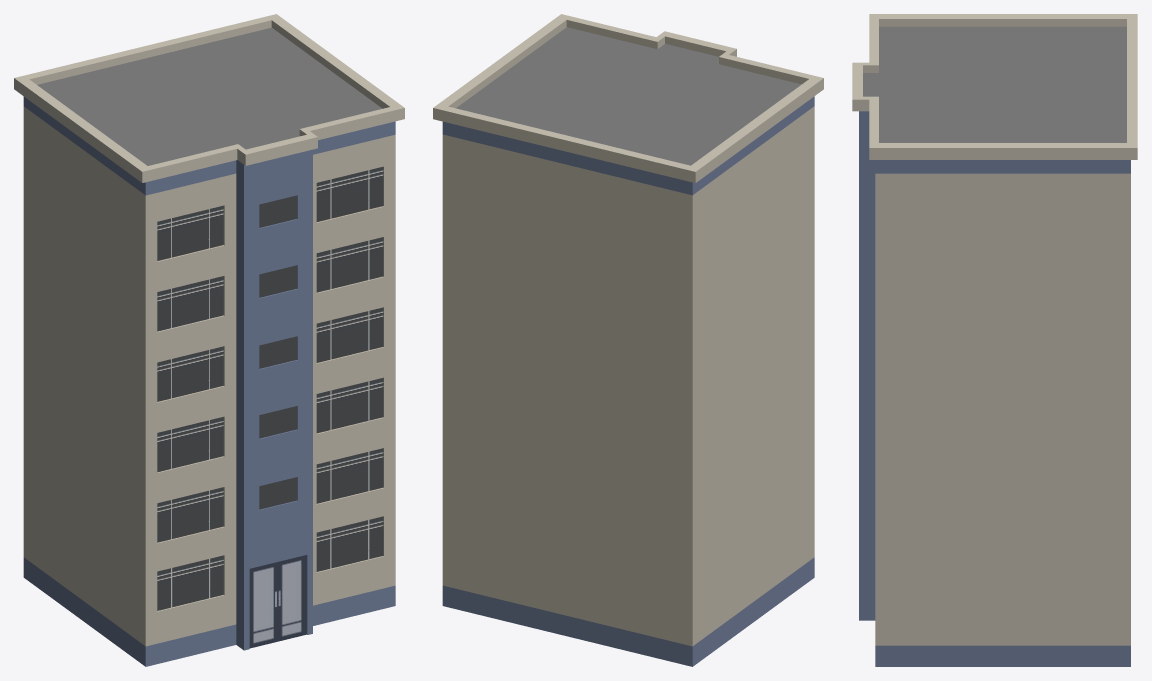
File: Building Sky_big_color03.glb
The picture shows the model from 3 angles, left to right: view 1: azimuth 30°, elevation 25°; view 2: azimuth 150°, elevation 25°; view 3: azimuth 270°, elevation 25°; orthographic projection. The views are drawn at different scales.
Parts seen in each view (by area): view 1: Building Sky_big_color03; view 2: Building Sky_big_color03; view 3: Building Sky_big_color03.
Boxes of the visible parts, left/top/right/bottom form: Building Sky_big_color03: left=14, top=14, right=404, bottom=666; Building Sky_big_color03: left=433, top=14, right=823, bottom=666; Building Sky_big_color03: left=852, top=14, right=1137, bottom=666.
Size of the model in its own units: 1.09 by 1.98 by 0.9837.
1 material, 1 textured.
